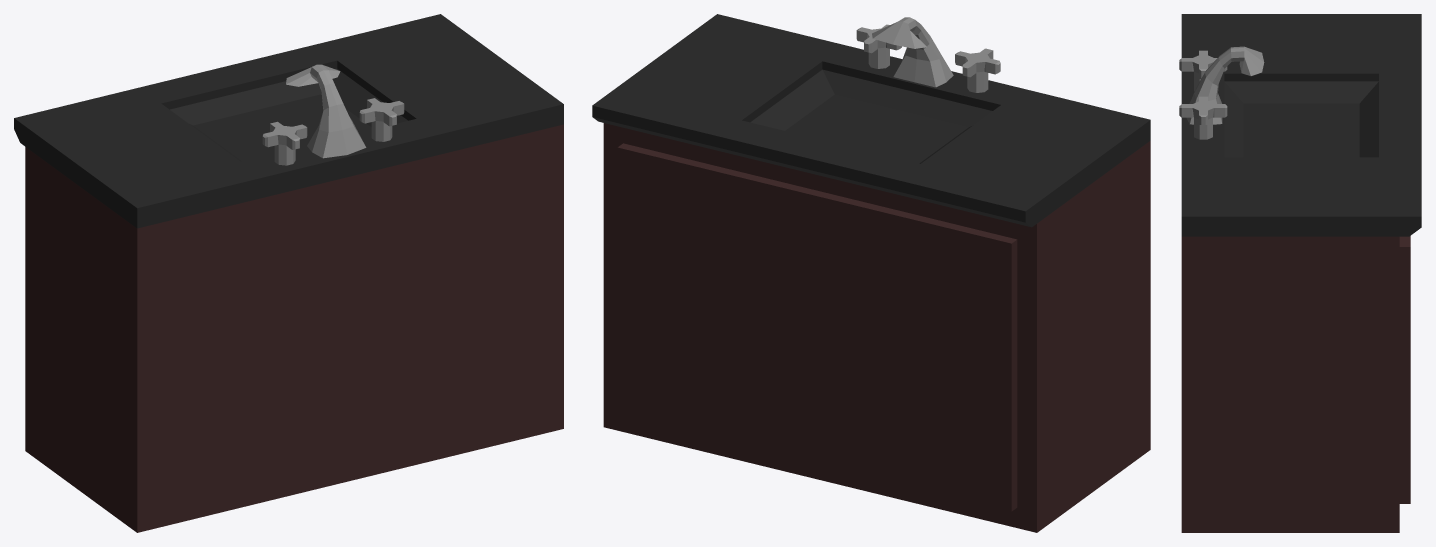
File: Counter Sink.fbx
3 views of the same model, side by side, from view 1: azimuth 30°, elevation 25°; view 2: azimuth 150°, elevation 25°; view 3: azimuth 270°, elevation 25° (orthographic). The views are drawn at different scales.
Visible parts, largest first — view 1: Counter Sink, CounterTop.001, Faucet.002, Handle2, Handle1; view 2: CounterFront.001, CounterTop.001, Counter Sink, Faucet.002, Handle2, Handle1; view 3: Counter Sink, CounterTop.001, CounterFront.001, Faucet.002, Handle1, Handle2.
Boxes of the visible parts, left/top/right/bottom form: Counter Sink: left=25, top=124, right=563, bottom=532; CounterTop.001: left=14, top=14, right=563, bottom=228; Faucet.002: left=286, top=64, right=366, bottom=158; Handle2: left=262, top=121, right=307, bottom=165; Handle1: left=359, top=98, right=404, bottom=141; CounterFront.001: left=617, top=143, right=1017, bottom=511; CounterTop.001: left=592, top=14, right=1150, bottom=227; Counter Sink: left=603, top=123, right=1150, bottom=532; Faucet.002: left=872, top=17, right=953, bottom=87; Handle2: left=955, top=48, right=1000, bottom=92; Handle1: left=856, top=24, right=901, bottom=68; Counter Sink: left=1181, top=236, right=1399, bottom=532; CounterTop.001: left=1181, top=14, right=1421, bottom=236; CounterFront.001: left=1399, top=236, right=1410, bottom=503; Faucet.002: left=1186, top=46, right=1264, bottom=124; Handle1: left=1179, top=96, right=1227, bottom=139; Handle2: left=1179, top=50, right=1227, bottom=91.
Size of the model in its own units: 220 by 194 by 111.
